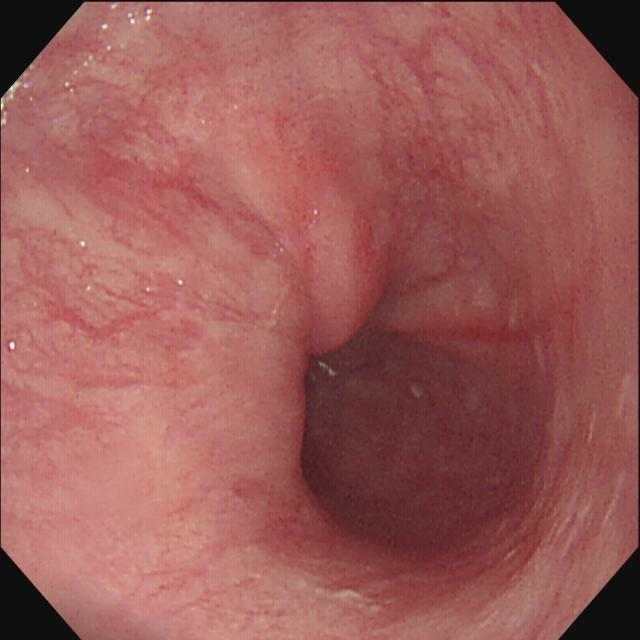A: (250, 477, 387, 589), (351, 205, 465, 307)
J: (2, 79, 33, 127), (318, 361, 339, 378)
